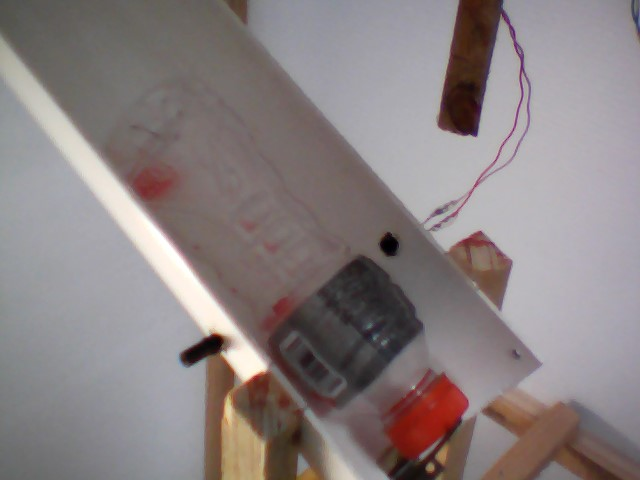plastico: (97, 70, 495, 460)
